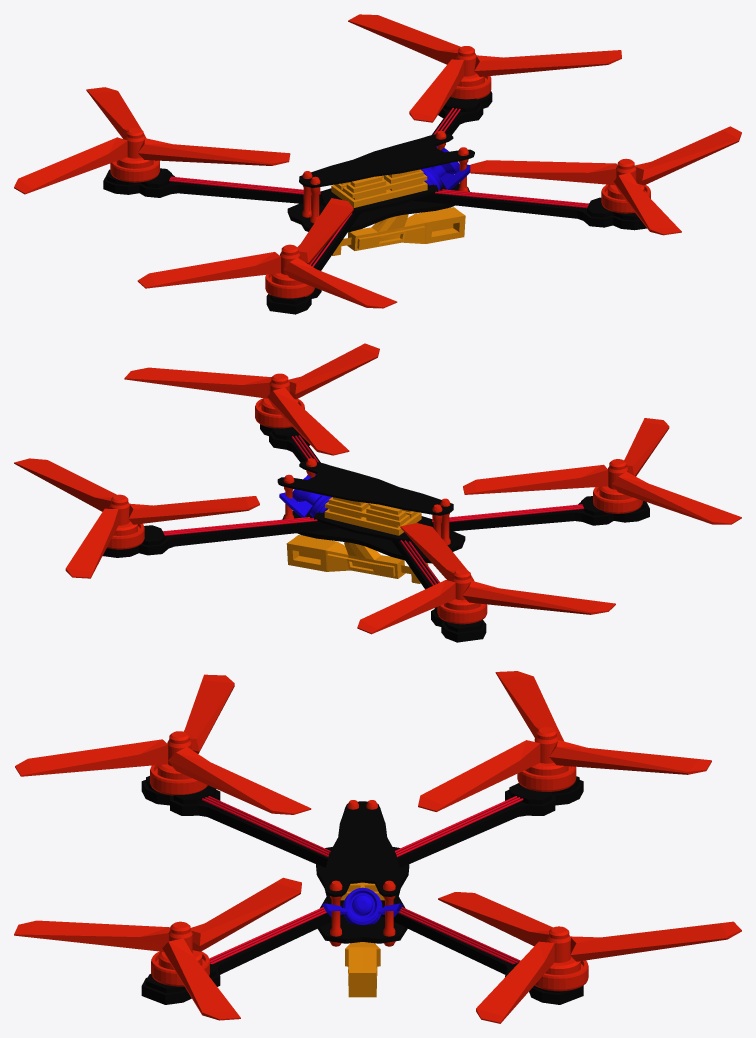
The model's file is MikasDrone.gltf.
3 views of the same model, one above another, from view 1: azimuth 30°, elevation 25°; view 2: azimuth 150°, elevation 25°; view 3: azimuth 270°, elevation 25° (orthographic). The views are drawn at different scales.
Visible parts, largest first — view 1: top, Props.002, Props.004, Props.001, Props.003; view 2: top, Props.004, Props.002, Props.001, Props.003; view 3: top, Props.003, Props.002, Props.004, Props.001.
Part boxes in pixels (x1,y1,x2,y2): top: (103, 91, 646, 314); Props.002: (14, 87, 290, 194); Props.004: (137, 198, 397, 308); Props.001: (470, 126, 741, 235); Props.003: (348, 14, 621, 122); top: (103, 424, 649, 642); Props.004: (463, 418, 741, 524); Props.002: (357, 523, 615, 634); Props.001: (124, 343, 379, 455); Props.003: (14, 458, 259, 578); top: (141, 776, 583, 1004); Props.003: (438, 892, 741, 1023); Props.002: (418, 671, 711, 811); Props.004: (15, 674, 311, 814); Props.001: (14, 877, 301, 1020).
Bounding box in the file's own units: 331 × 55.37 × 292.
